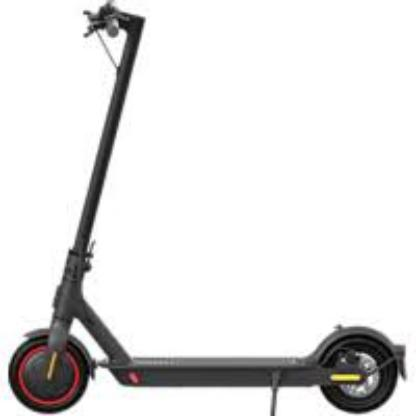bike: (6, 2, 413, 415)
